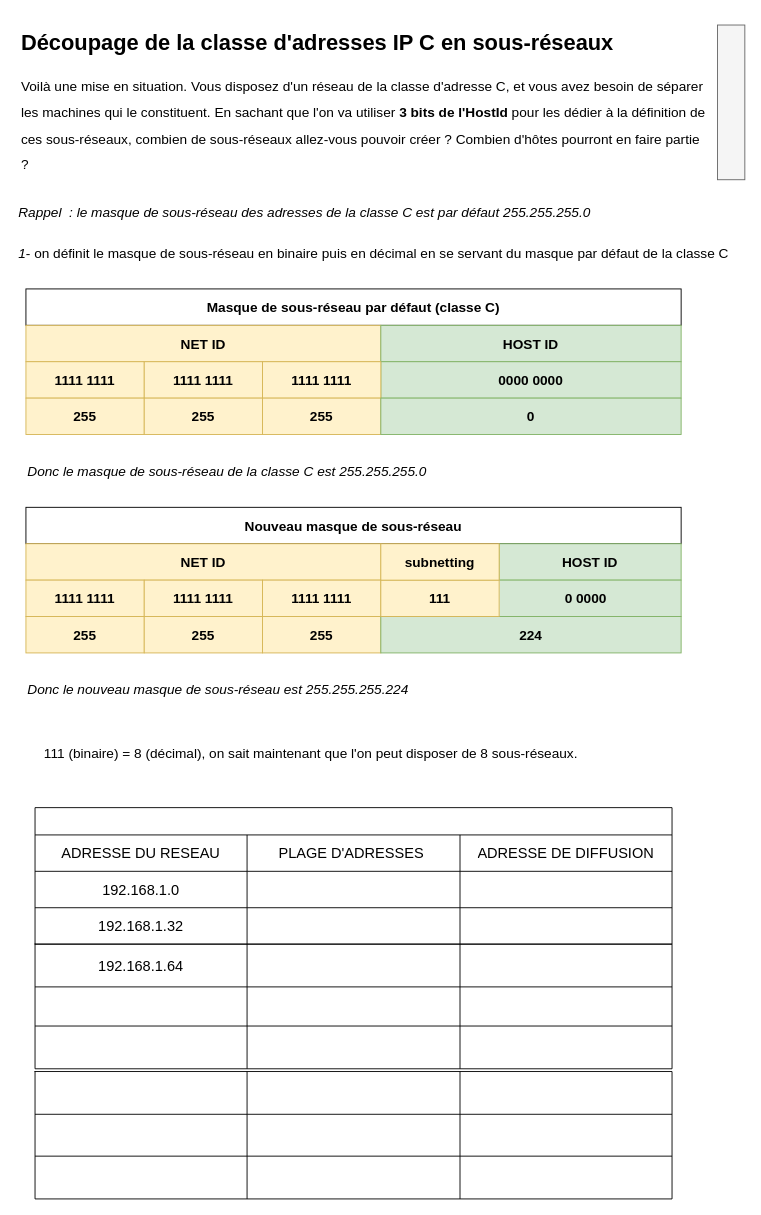
This 761x1215 diagram has some shape labels left out. The shapes that lost their labels are listed below. From the top down, each one's box as (x1, y1, x2, y2) in pixels, then its label:
(717, 24, 745, 180): https://beckbrook.github.io/
(34, 807, 672, 944): Sous-réseaux et plages
